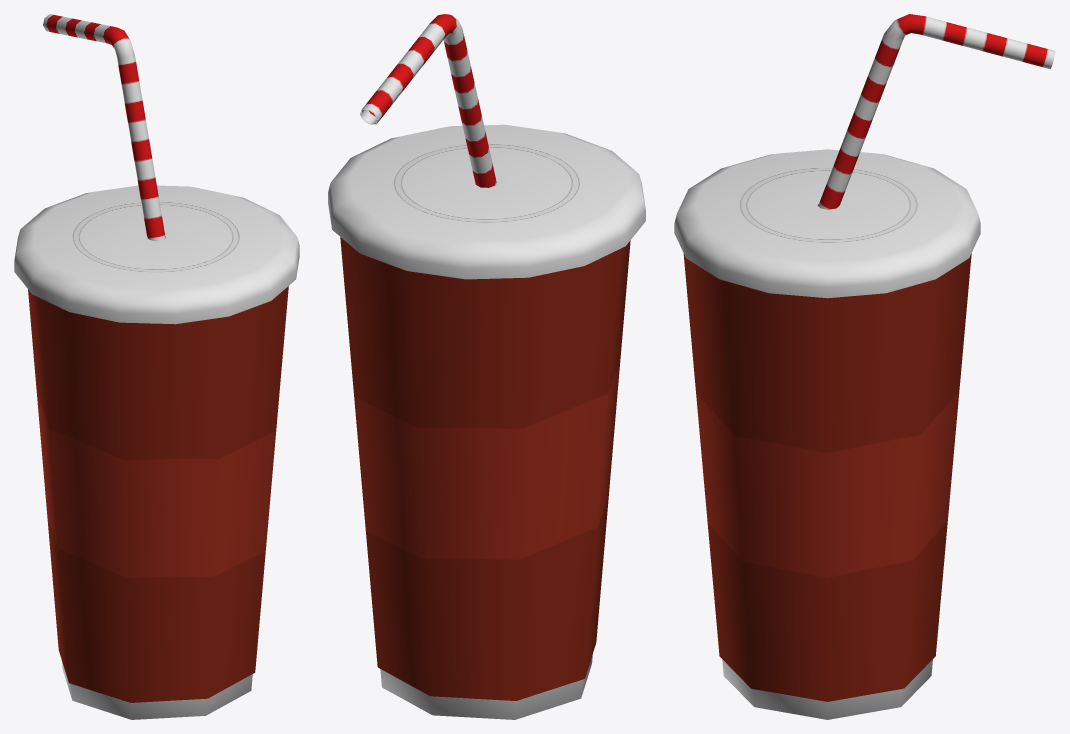
The model's file is Cup_Drink.fbx.
3 renders of one model, left to right at view 1: azimuth 30°, elevation 25°; view 2: azimuth 150°, elevation 25°; view 3: azimuth 270°, elevation 25°, orthographic. The views are drawn at different scales.
Visible parts, largest first — view 1: Drink_Cup; view 2: Drink_Cup; view 3: Drink_Cup.
Boxes of the visible parts, x1=… form: Drink_Cup: x1=14, y1=14, x2=299, y2=719; Drink_Cup: x1=328, y1=14, x2=645, y2=719; Drink_Cup: x1=674, y1=14, x2=1055, y2=719.
Size of the model in its own units: 11.7 by 27.9 by 14.56.
1 material, 1 textured.
